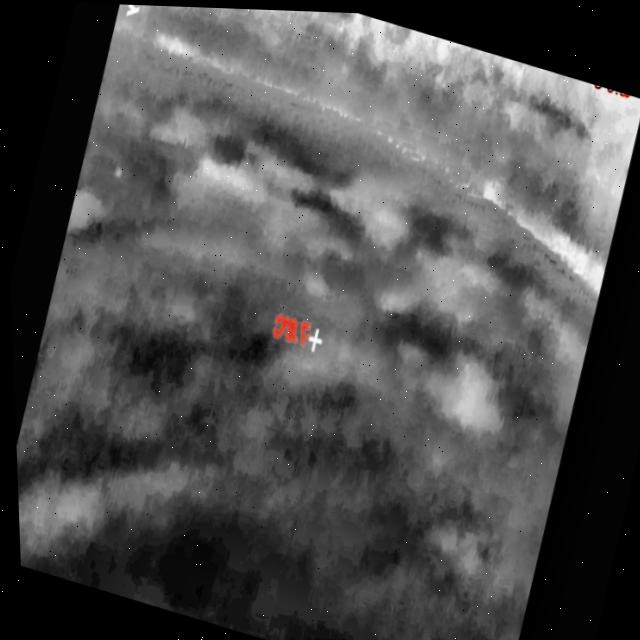drone: (111, 163, 122, 179)
